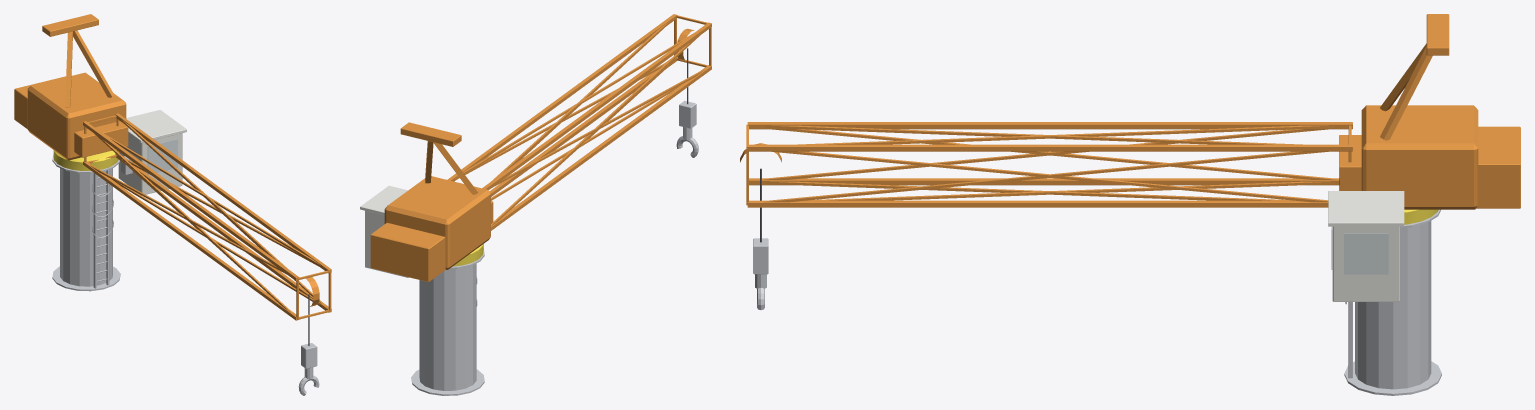
File: crane.glb
3 renders of one model, left to right at view 1: azimuth 30°, elevation 25°; view 2: azimuth 150°, elevation 25°; view 3: azimuth 270°, elevation 25°, orthographic. The views are drawn at different scales.
Parts seen in each view (by area): view 1: crane-boom, pedestal-crane, crane-house, crane-hook; view 2: crane-boom, crane-house, pedestal-crane, crane-hook; view 3: crane-boom, pedestal-crane, crane-house, crane-hook.
Boxes of the visible parts, x1,y1,x2,y2 form: crane-boom: (74, 113, 331, 320); pedestal-crane: (52, 110, 309, 345); crane-house: (14, 14, 126, 160); crane-hook: (298, 343, 319, 395); crane-boom: (447, 14, 711, 230); crane-house: (370, 122, 490, 282); pedestal-crane: (360, 48, 688, 395); crane-hook: (676, 100, 698, 157); crane-boom: (740, 122, 1361, 207); pedestal-crane: (760, 168, 1441, 395); crane-house: (1361, 14, 1520, 209); crane-hook: (753, 238, 768, 309).
Size of the model in its own units: 3.95 by 8.5 by 17.42.
